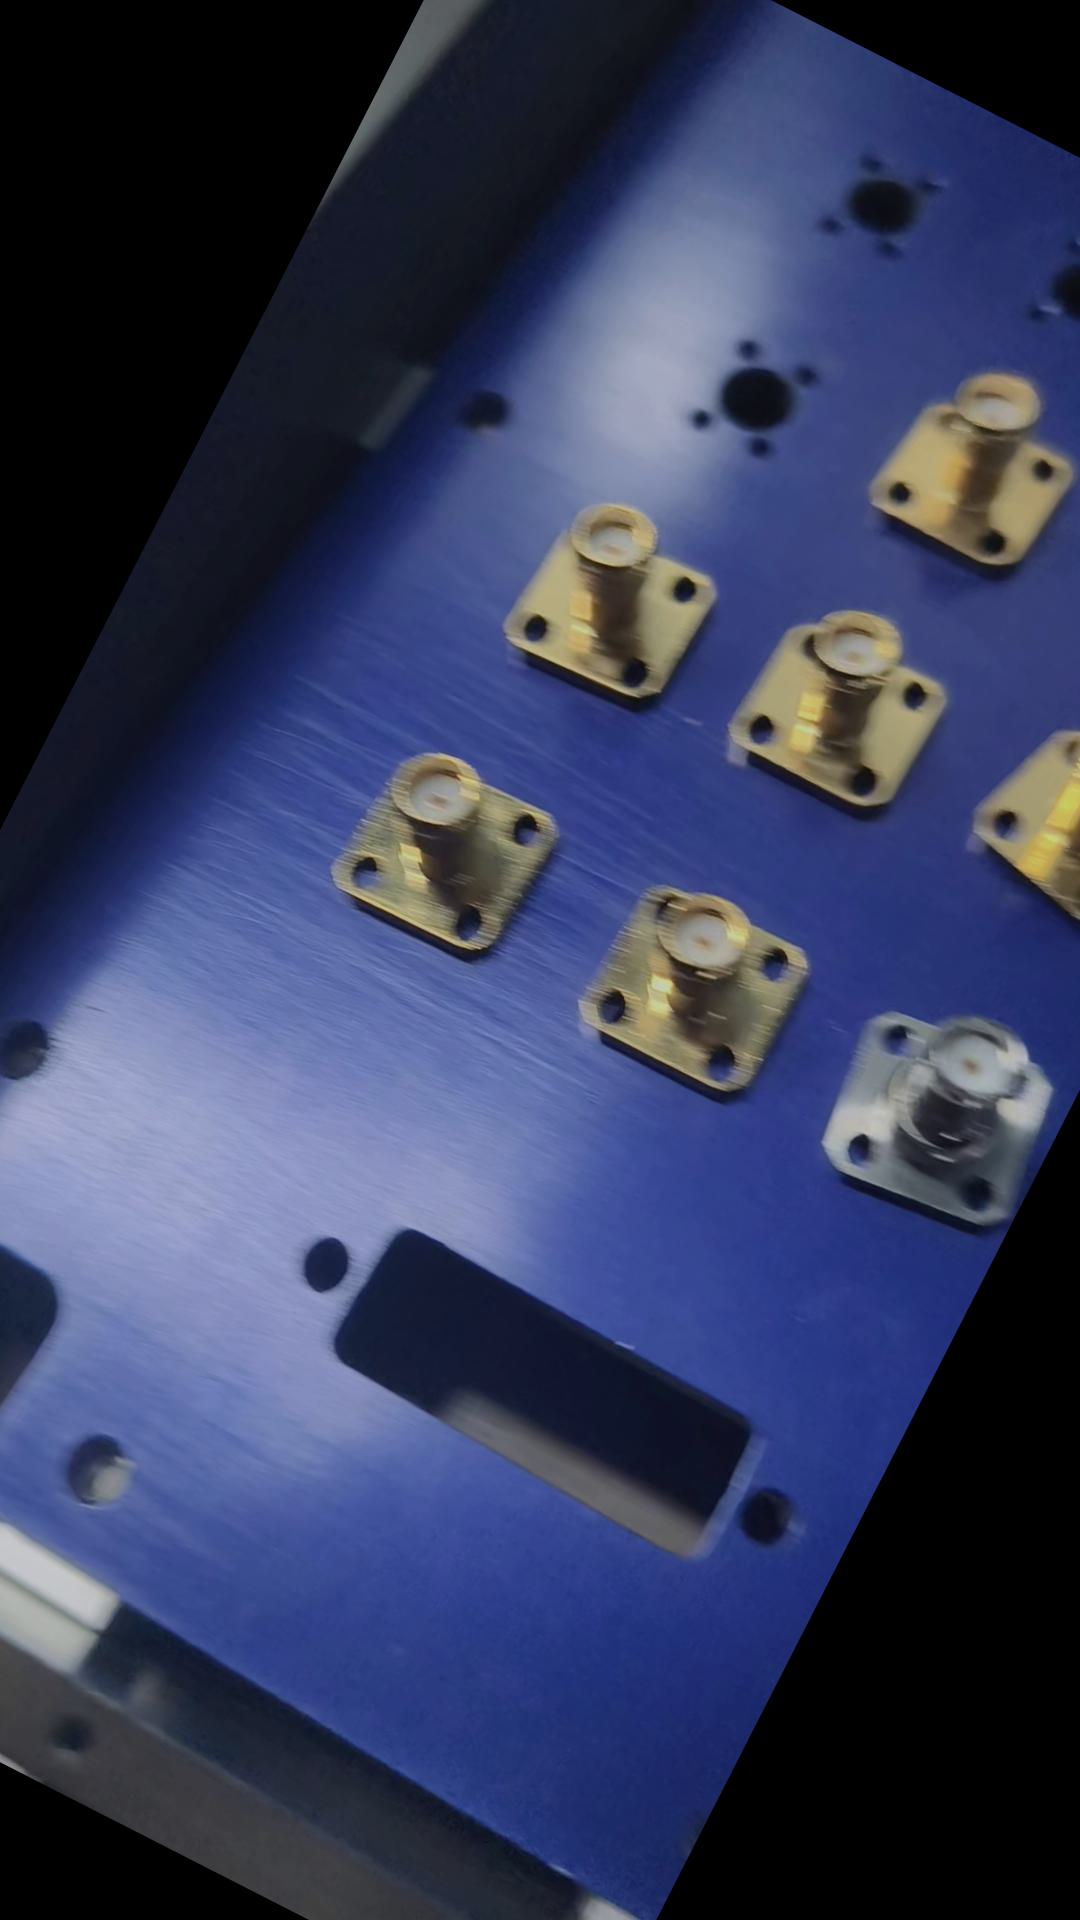SMA: (793, 971, 1079, 1263), (562, 858, 832, 1121), (712, 570, 975, 835), (315, 728, 575, 982), (487, 473, 740, 723), (862, 339, 1079, 601), (953, 661, 1079, 965)
